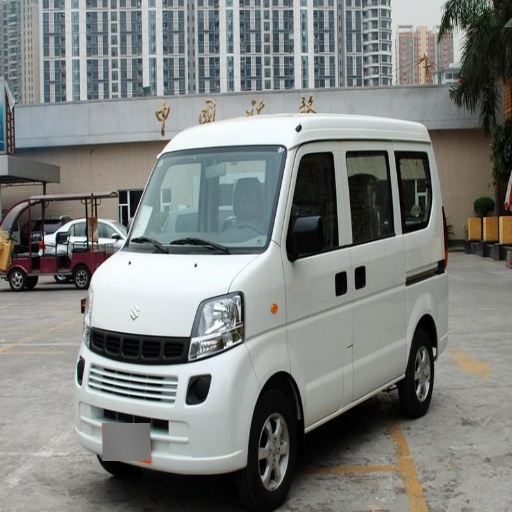front_bumper: (76, 325, 261, 474)
front_glass: (125, 147, 287, 250)
front_left_door: (285, 146, 366, 423)
